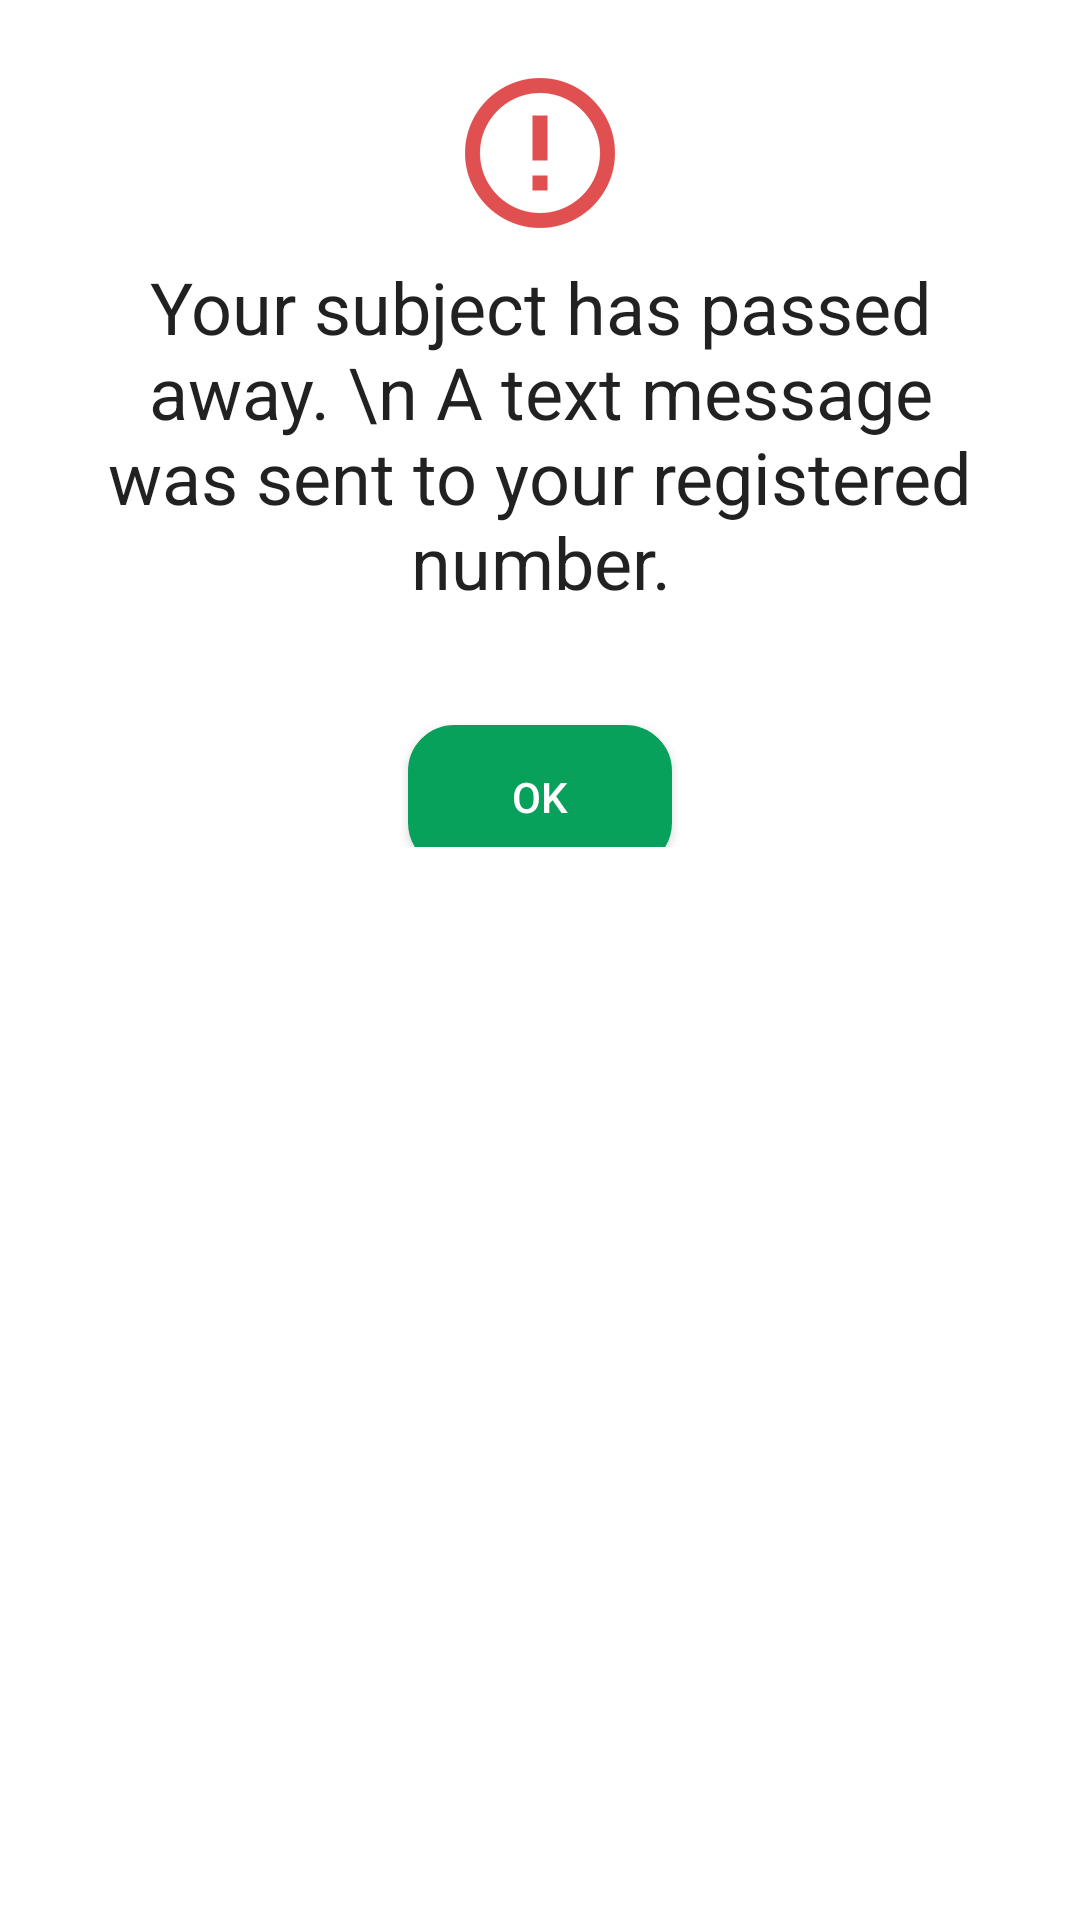

Named icons in this screenshot (1080*1920) and their centers, (x,y):
alert: (540,153)
